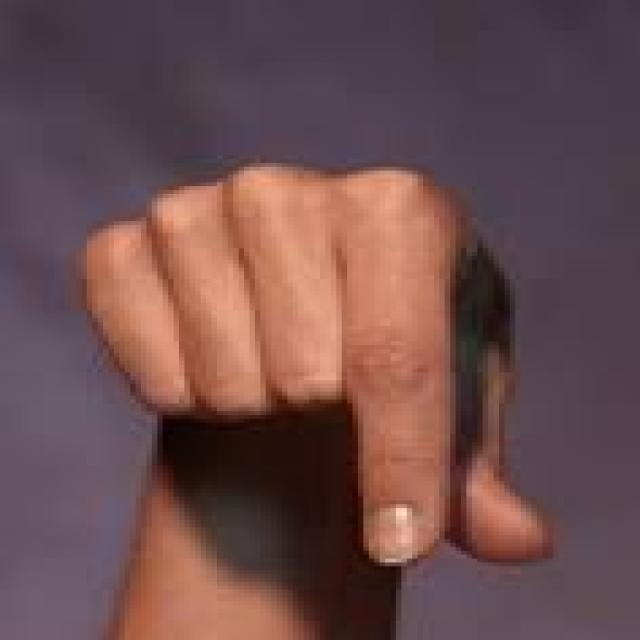Q: (62, 149, 578, 584)
